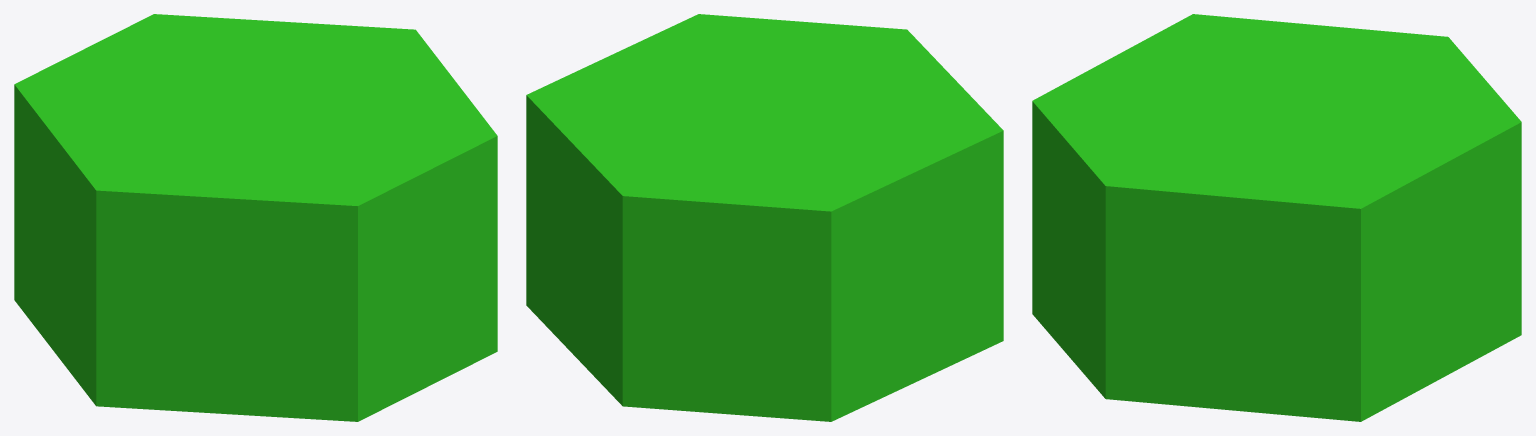
The model's file is NormalContent.fbx.
3 renders of one model, left to right at view 1: azimuth 30°, elevation 25°; view 2: azimuth 150°, elevation 25°; view 3: azimuth 270°, elevation 25°, orthographic. The views are drawn at different scales.
Visible parts, largest first — view 1: Model; view 2: Model; view 3: Model.
Boxes of the visible parts, <box> form: Model: <box>14,14,497,421</box>; Model: <box>526,14,1003,421</box>; Model: <box>1032,14,1521,421</box>.
Size of what is drawn, in the model's own units: 0.6042 by 0.308 by 0.6413.
